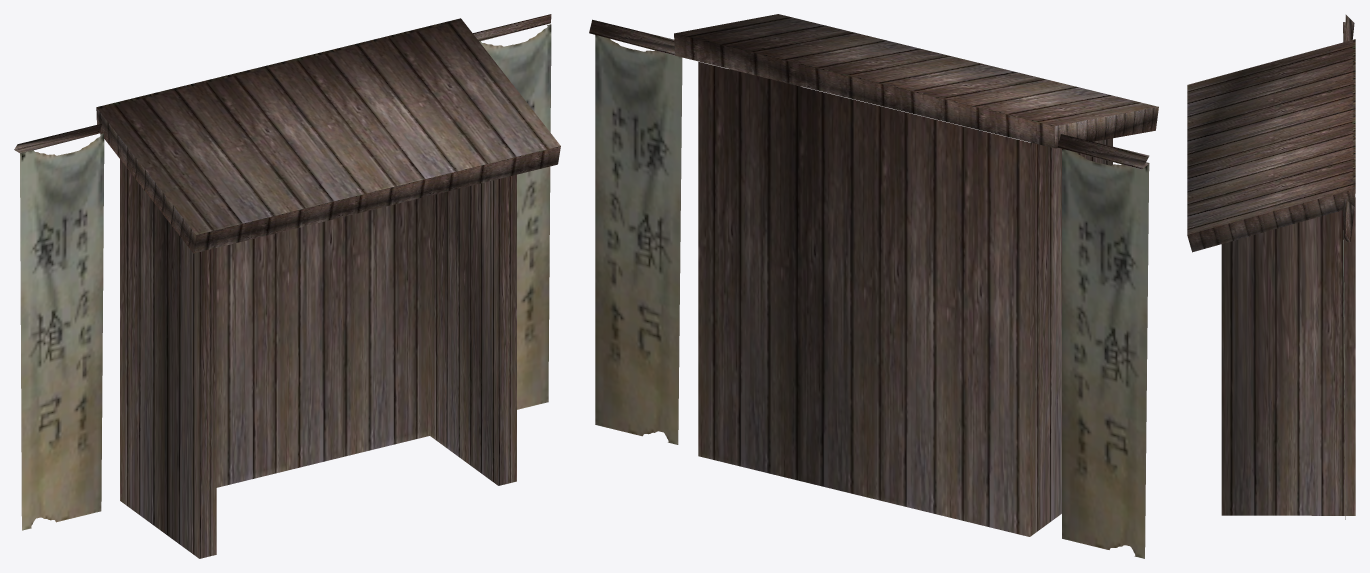
Rendered from cj_weap_sign.glb.
The picture shows the model from 3 angles, left to right: view 1: azimuth 30°, elevation 25°; view 2: azimuth 150°, elevation 25°; view 3: azimuth 270°, elevation 25°; orthographic projection. The views are drawn at different scales.
Parts seen in each view (by area): view 1: CJ_weap_sign, CJ_weap_sign_1; view 2: CJ_weap_sign, CJ_weap_sign_1; view 3: CJ_weap_sign, CJ_weap_sign_1.
Boxes of the visible parts, x1,y1,x2,y2 form: CJ_weap_sign: (96,14,560,558); CJ_weap_sign_1: (14,24,551,530); CJ_weap_sign: (674,14,1158,536); CJ_weap_sign_1: (589,19,1149,558); CJ_weap_sign: (1187,39,1355,515); CJ_weap_sign_1: (1343,14,1354,519).
Bounding box in the file's own units: 4.36 × 3.12 × 1.42.
Materials: 2 (2 with a texture image).
